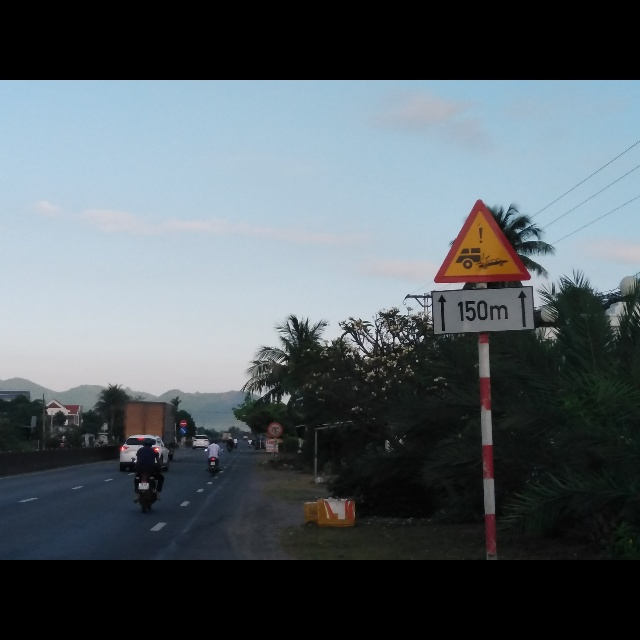Đoạn đường hay xảy ra tai nạn: (434, 198, 532, 284)
